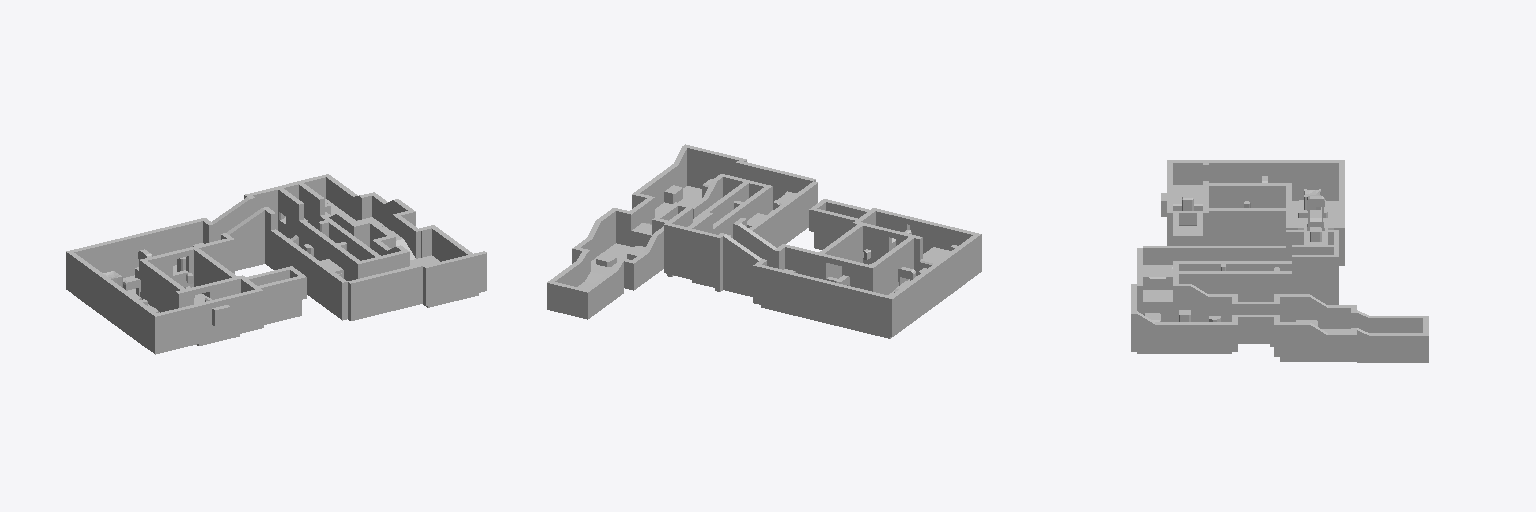
The model's file is level0 edited.obj.
The picture shows the model from 3 angles: view 1: azimuth 30°, elevation 25°; view 2: azimuth 150°, elevation 25°; view 3: azimuth 270°, elevation 25°; orthographic projection.
Parts seen in each view (by area): view 1: level0mesh; view 2: level0mesh; view 3: level0mesh.
Part boxes in pixels (bbox=[...]): level0mesh: bbox=[66, 174, 486, 354]; level0mesh: bbox=[547, 144, 981, 338]; level0mesh: bbox=[1131, 160, 1428, 362].
Size of the model in its own units: 61 by 13 by 50.